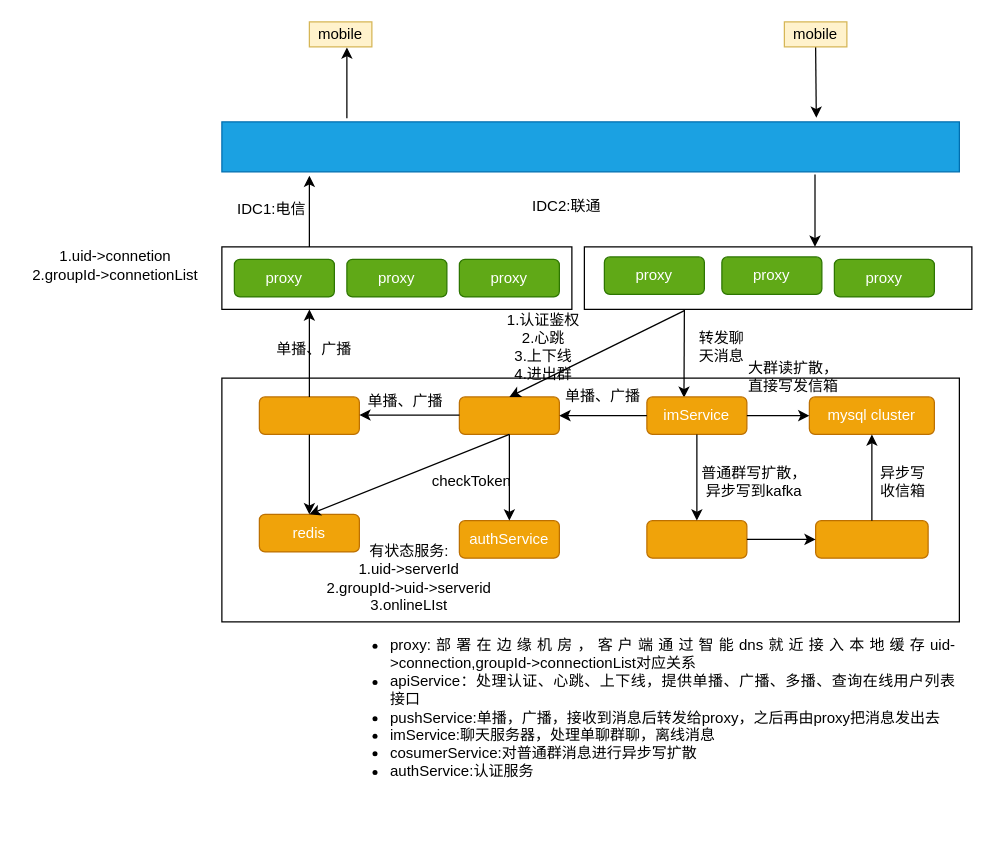
Some shapes in this 994 by 844 pixel diagram are drawn without their labels. The shapes that lost their labels are listed below. From the top down, each one's box as (x1, y1, x2, y2) in pixels, then its label:
(221, 121, 959, 172): Mars(tcp) /JSSDK(websocket)
(258, 396, 359, 434): pushService
(458, 396, 559, 434): apiService
(646, 519, 747, 558): kafka
(814, 519, 928, 558): consumerService
